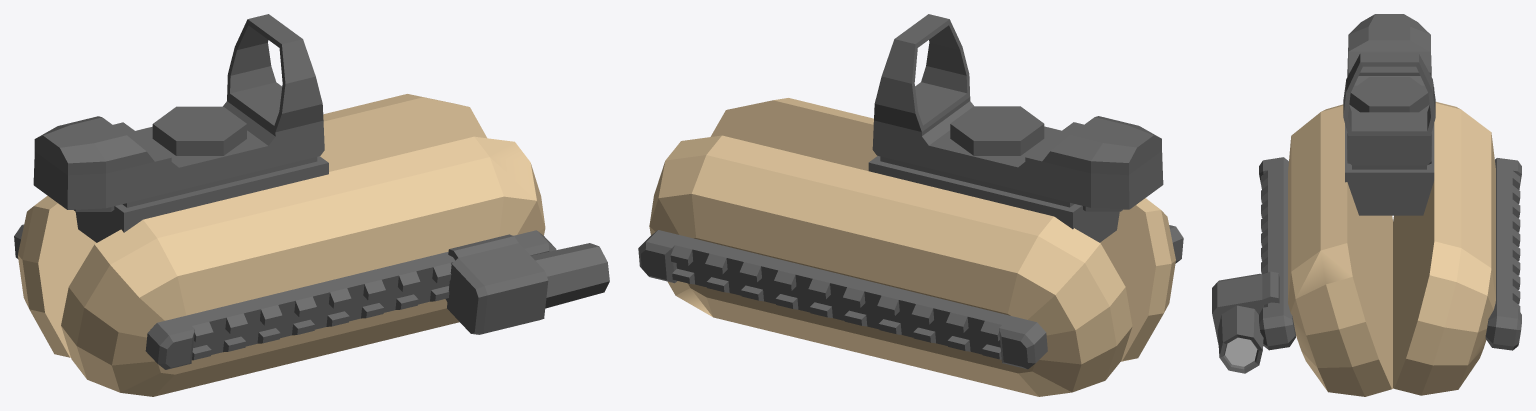
File: hotgun.glb
The picture shows the model from 3 angles, left to right: view 1: azimuth 30°, elevation 25°; view 2: azimuth 150°, elevation 25°; view 3: azimuth 270°, elevation 25°; orthographic projection. The views are drawn at different scales.
Parts seen in each view (by area): view 1: Hotdog_Cube.001, RedDot_Cube, Raling1_Cube.005, Flashlight_Cube.006; view 2: Hotdog_Cube.001, RedDot_Cube, Railing2_Cube.004; view 3: Hotdog_Cube.001, RedDot_Cube, Railing2_Cube.004, Flashlight_Cube.006, Raling1_Cube.005.
Boxes of the visible parts, x1,y1,x2,y2 form: Hotdog_Cube.001: (18, 94, 545, 396); RedDot_Cube: (33, 14, 328, 242); Raling1_Cube.005: (145, 230, 556, 369); Flashlight_Cube.006: (445, 234, 609, 334); Hotdog_Cube.001: (649, 98, 1175, 396); RedDot_Cube: (868, 14, 1163, 242); Railing2_Cube.004: (638, 230, 1047, 369); Hotdog_Cube.001: (1288, 101, 1495, 396); RedDot_Cube: (1343, 14, 1435, 215); Railing2_Cube.004: (1485, 158, 1521, 350); Flashlight_Cube.006: (1212, 271, 1279, 373); Raling1_Cube.005: (1259, 157, 1295, 350).
Bounding box in the file's own units: 0.9803 × 0.6278 × 0.6684.
